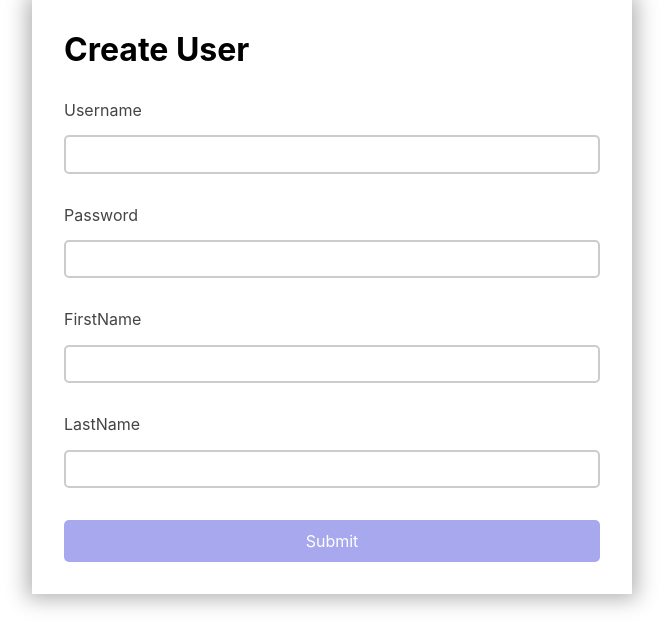
Scenario: Form Errors › Should not be able to submit with empty username
Type "Develop@90" into the password field labelled "Password".
click(332, 259); type("Develop@90")  # box [64,240,600,278]
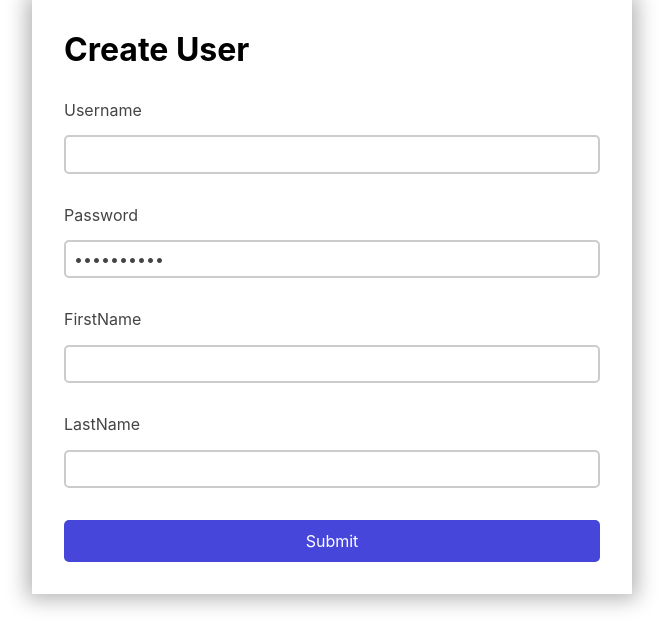
Type "Test" into the field labelled "firstName".
click(332, 364); type("Test")  # box [64,345,600,383]
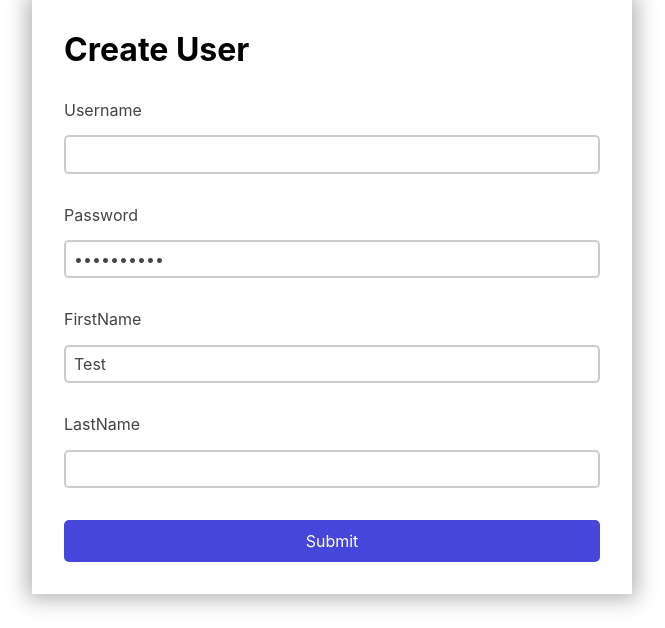
Type "User" into the field labelled "lastName".
click(332, 469); type("User")  # box [64,450,600,488]
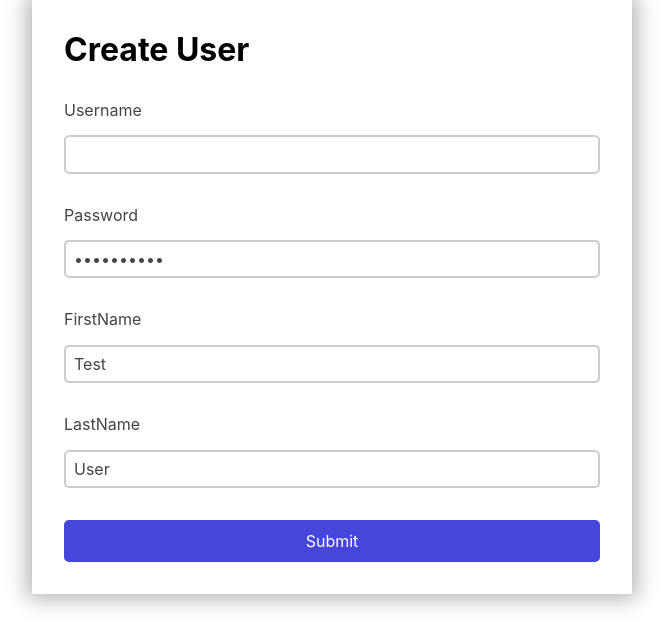
Leave the field labelled "Username", box [64,135,600,174]
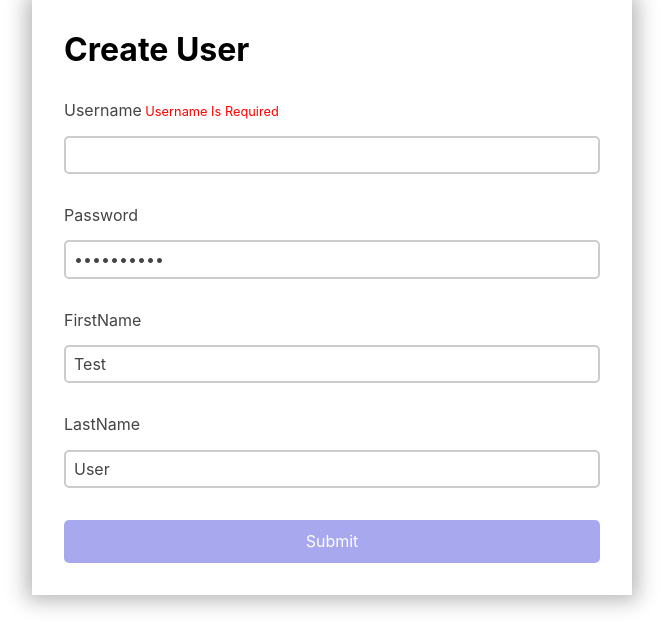
Check: the text "Username is required" is shown, box [142,104,279,119]
Check: the button "Submit" is disabled, box [64,520,600,563]
